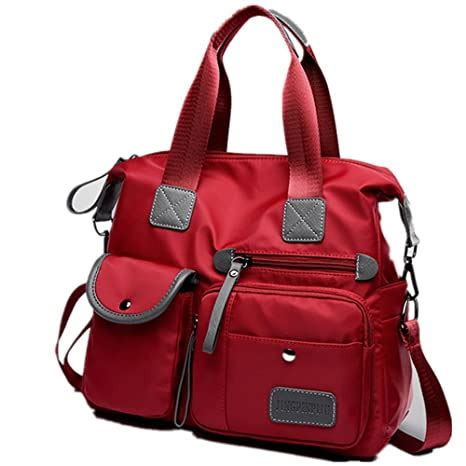nylon: (83, 148, 413, 464)
